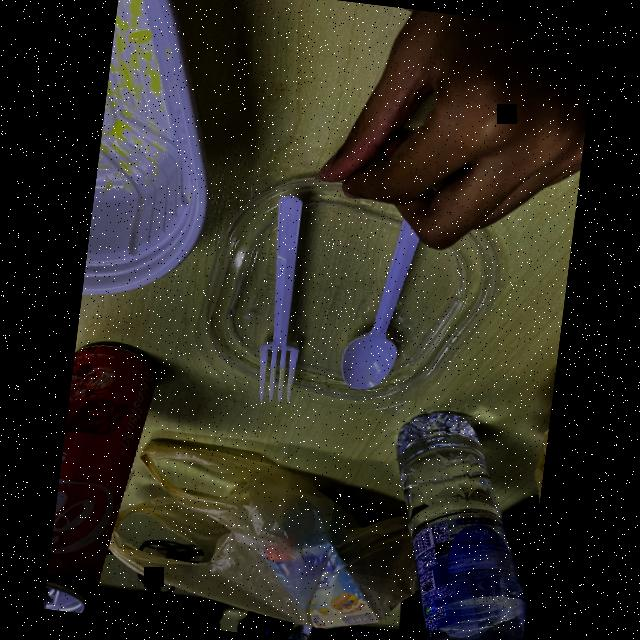plastic_cultery: (328, 213, 420, 402), (250, 180, 320, 414)
